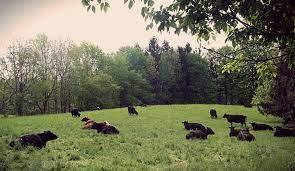cow: (9, 130, 58, 151), (91, 121, 119, 134), (223, 113, 248, 127), (186, 127, 215, 139), (228, 126, 249, 138), (274, 126, 295, 138), (249, 121, 274, 131), (182, 120, 205, 130), (238, 130, 256, 142), (82, 117, 95, 130), (71, 108, 82, 119), (128, 105, 139, 115), (209, 108, 218, 119)
